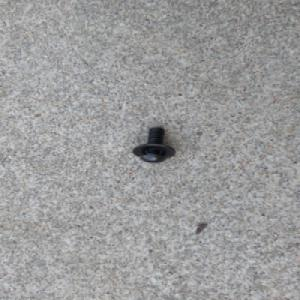BoltWasher: (131, 126, 177, 164)
